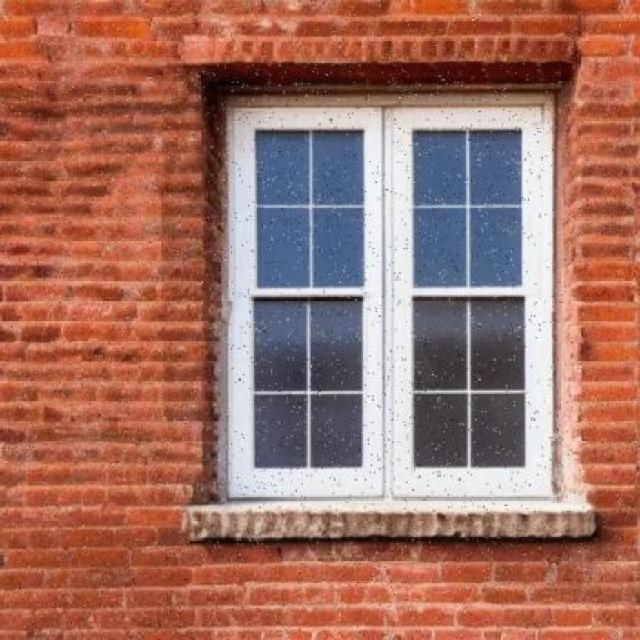window: (222, 90, 553, 495)
